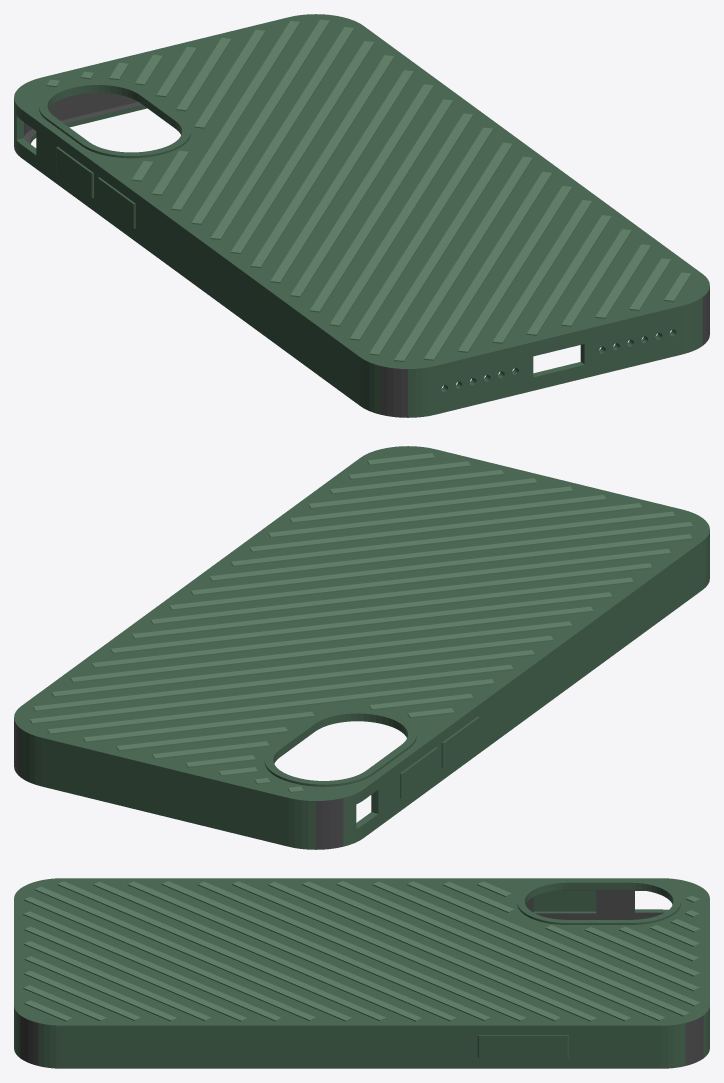
The model's file is kilif-compact-dokuma-orman.glb.
3 views of the same model, one above another, from view 1: azimuth 30°, elevation 25°; view 2: azimuth 150°, elevation 25°; view 3: azimuth 270°, elevation 25° (orthographic). The views are drawn at different scales.
Parts seen in each view (by area): view 1: Kilif; view 2: Kilif; view 3: Kilif.
Boxes of the visible parts, x1,y1,x2,y2 form: Kilif: (14, 14, 709, 417); Kilif: (14, 446, 709, 849); Kilif: (14, 878, 709, 1068).
Size of the model in its own units: 0.0743 by 0.0105 by 0.1464.
